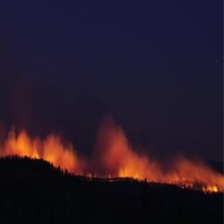fire: (5, 152, 223, 196)
